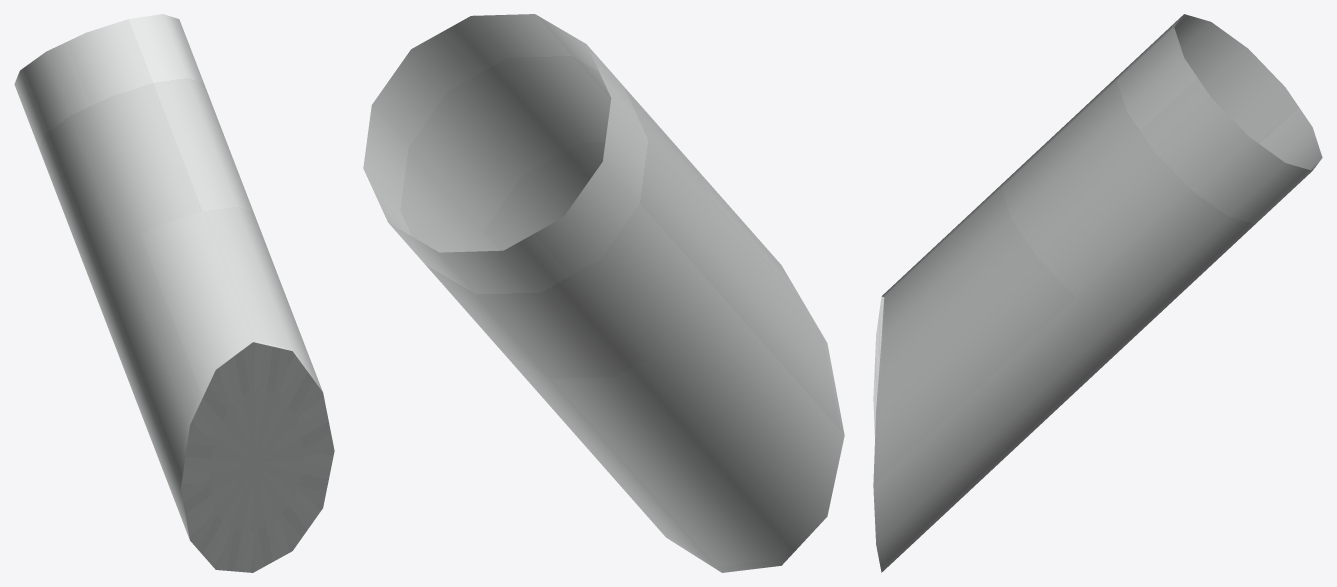
File: luminairearm_truss8ftstraight_c1.obj
3 renders of one model, left to right at view 1: azimuth 30°, elevation 25°; view 2: azimuth 150°, elevation 25°; view 3: azimuth 270°, elevation 25°, orthographic. The views are drawn at different scales.
Parts seen in each view (by area): view 1: luminairearm_truss8ftstraight_c1; view 2: luminairearm_truss8ftstraight_c1; view 3: luminairearm_truss8ftstraight_c1.
Boxes of the visible parts, <box> form: luminairearm_truss8ftstraight_c1: <box>14,14,334,572</box>; luminairearm_truss8ftstraight_c1: <box>363,14,844,572</box>; luminairearm_truss8ftstraight_c1: <box>873,14,1322,572</box>.
Bounding box in the file's own units: 0.1562 × 0.4495 × 0.3392.
